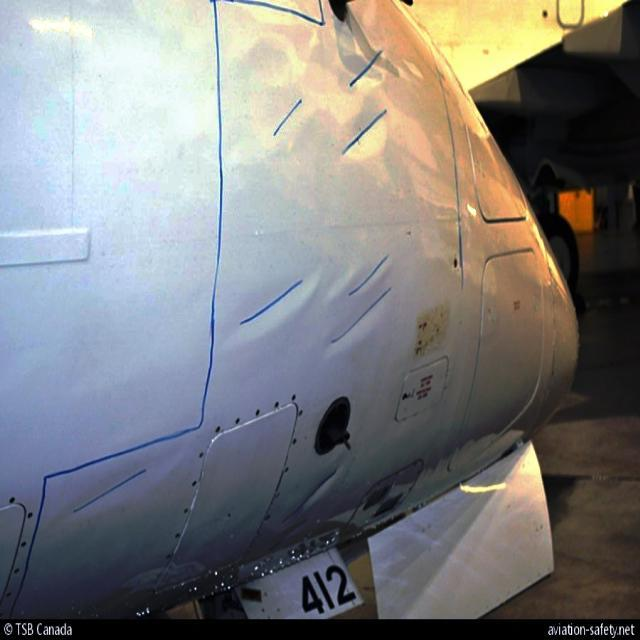dent: (337, 94, 391, 165)
